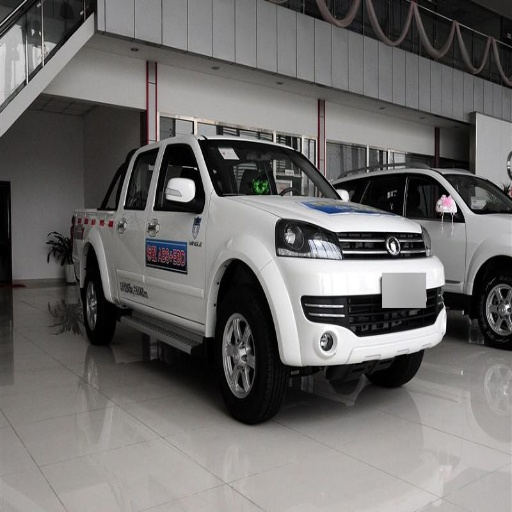front_bumper: (265, 232, 444, 364)
front_right_door: (144, 143, 203, 320), (423, 178, 465, 267)
front_right_light: (277, 223, 342, 259)
